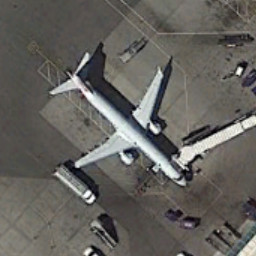Airplane: (44, 49, 192, 190)
